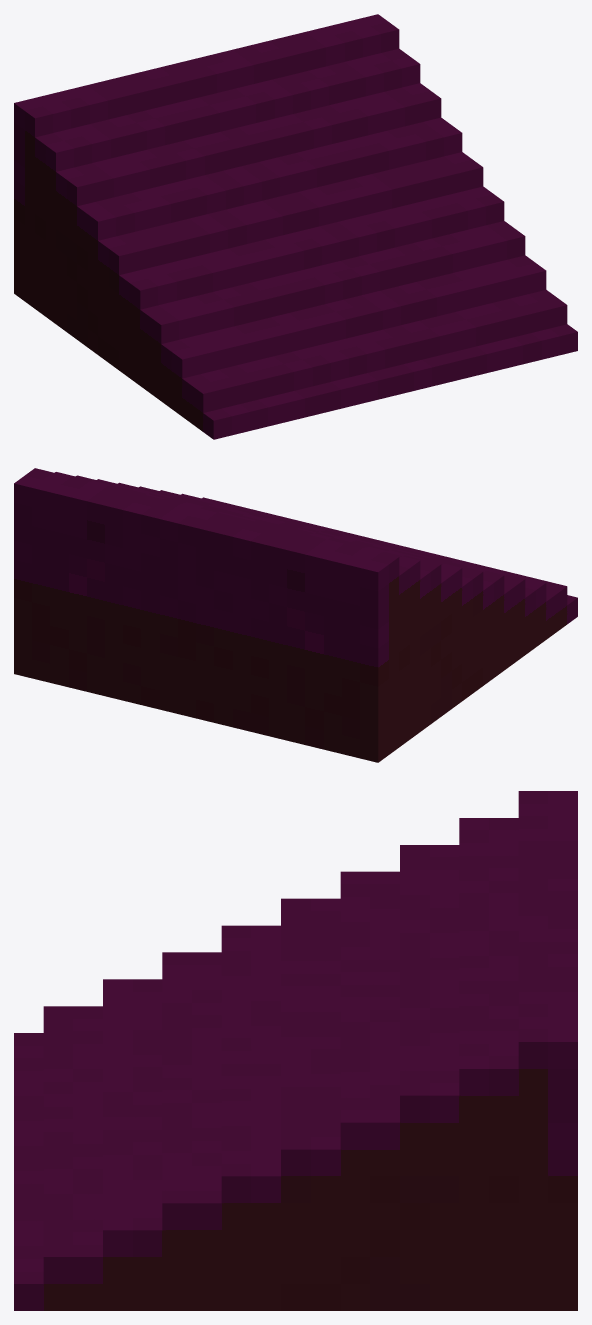
The model's file is half_top_ramp_bot_middle.glb.
3 renders of one model, top to bottom at view 1: azimuth 30°, elevation 25°; view 2: azimuth 150°, elevation 25°; view 3: azimuth 270°, elevation 25°, orthographic. The views are drawn at different scales.
Parts seen in each view (by area): view 1: half_top_ramp_bot_mid; view 2: half_top_ramp_bot_mid; view 3: half_top_ramp_bot_mid.
Part boxes in pixels (box(x1,y1,x2,y2)): half_top_ramp_bot_mid: box(14, 14, 577, 439); half_top_ramp_bot_mid: box(14, 468, 577, 762); half_top_ramp_bot_mid: box(14, 791, 577, 1310).
Size of the model in its own units: 2 by 1 by 1.9.
Materials: 1 (1 with a texture image).
